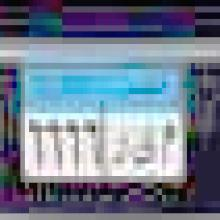6: (83, 113, 98, 168), (46, 119, 63, 166), (66, 115, 80, 169), (28, 120, 42, 170)
meem: (156, 121, 178, 175)
